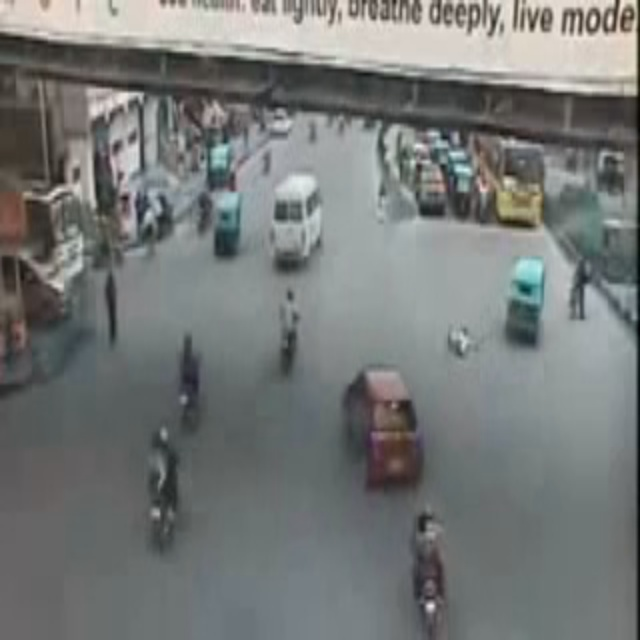acc: (439, 279, 545, 371)
